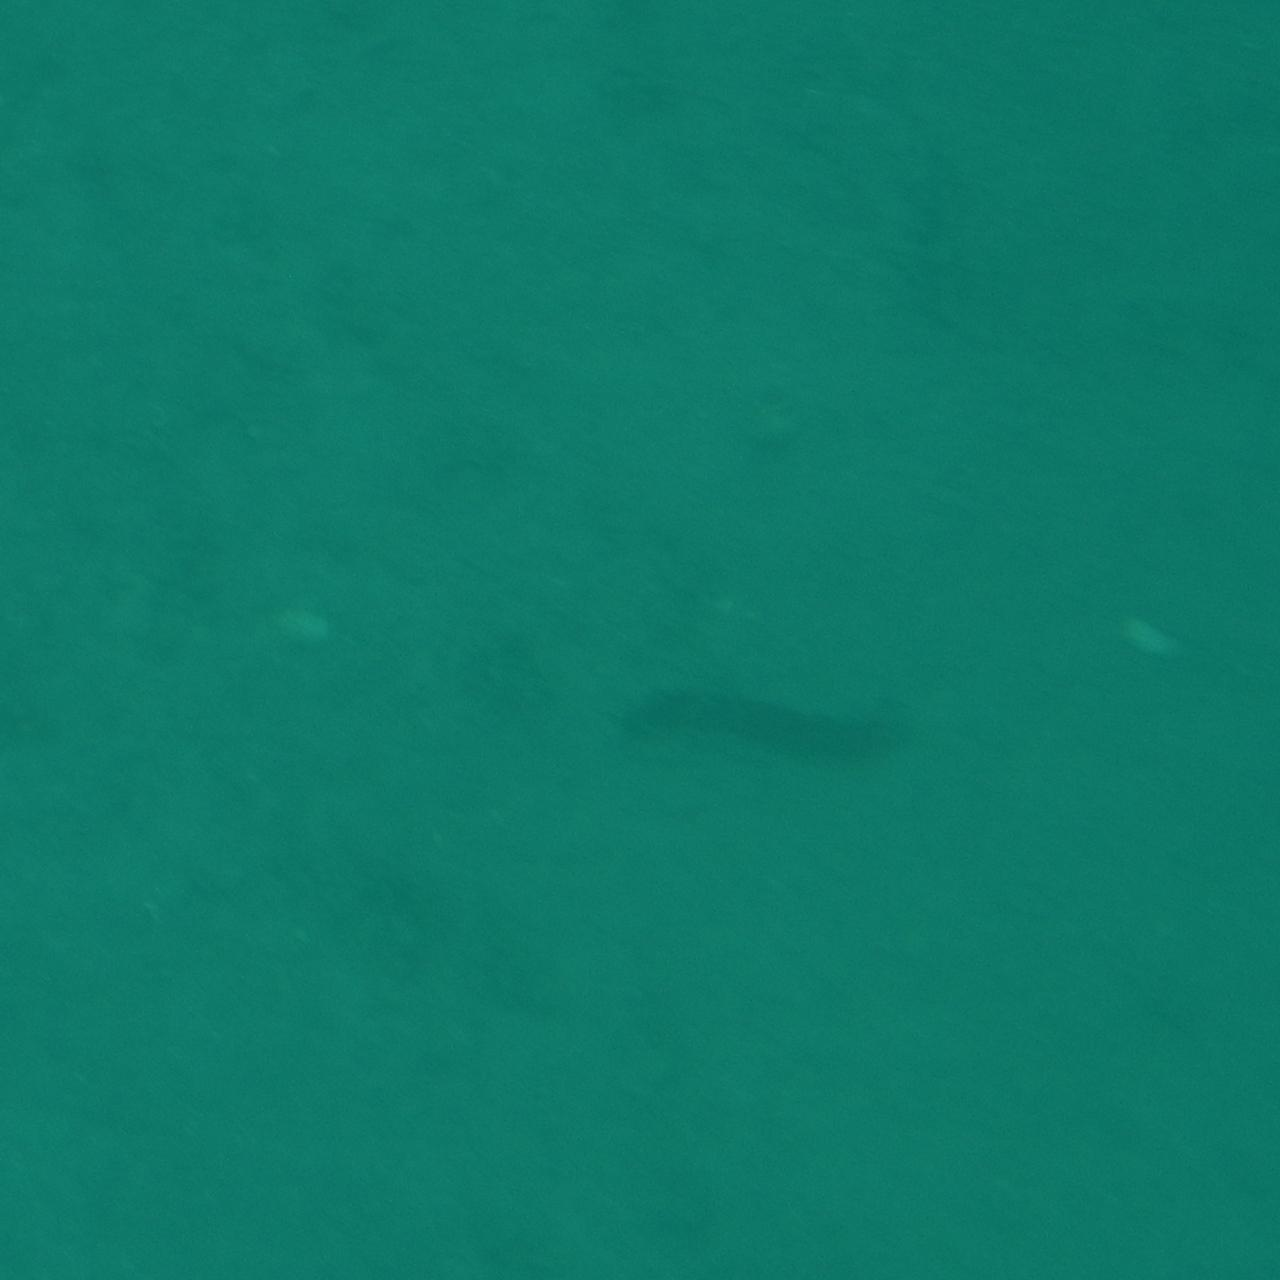Holothuria tubulosa: (607, 665, 951, 787)
